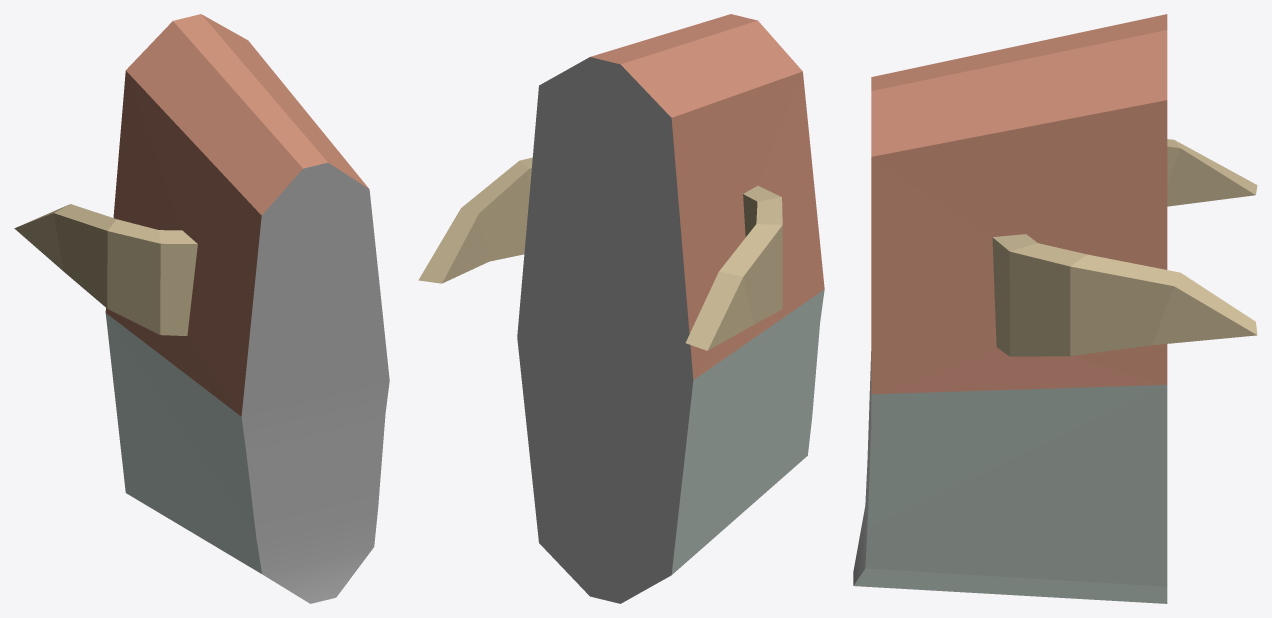
The model's file is topButtomPart.fbx.
3 views of the same model, side by side, from view 1: azimuth 30°, elevation 25°; view 2: azimuth 150°, elevation 25°; view 3: azimuth 270°, elevation 25° (orthographic). The views are drawn at different scales.
Parts seen in each view (by area): view 1: topButtomPart; view 2: topButtomPart; view 3: topButtomPart.
Part boxes in pixels (x1,y1,x2,y2): topButtomPart: [14, 14, 389, 603]; topButtomPart: [418, 14, 824, 603]; topButtomPart: [853, 14, 1257, 603].
Size of the model in its own units: 46.14 by 82.25 by 52.47.
